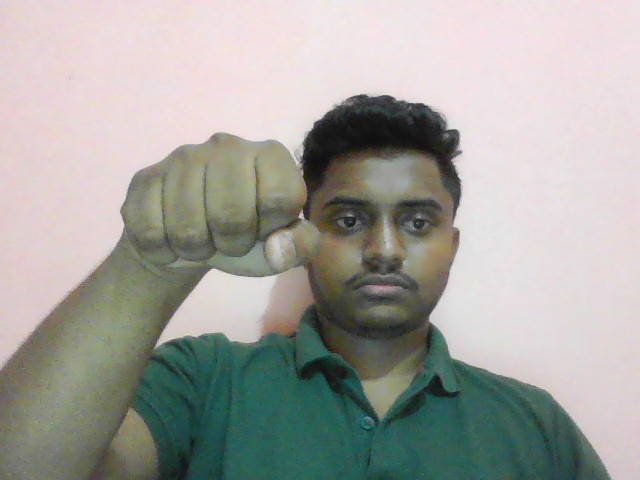Yes: (105, 123, 325, 284)
